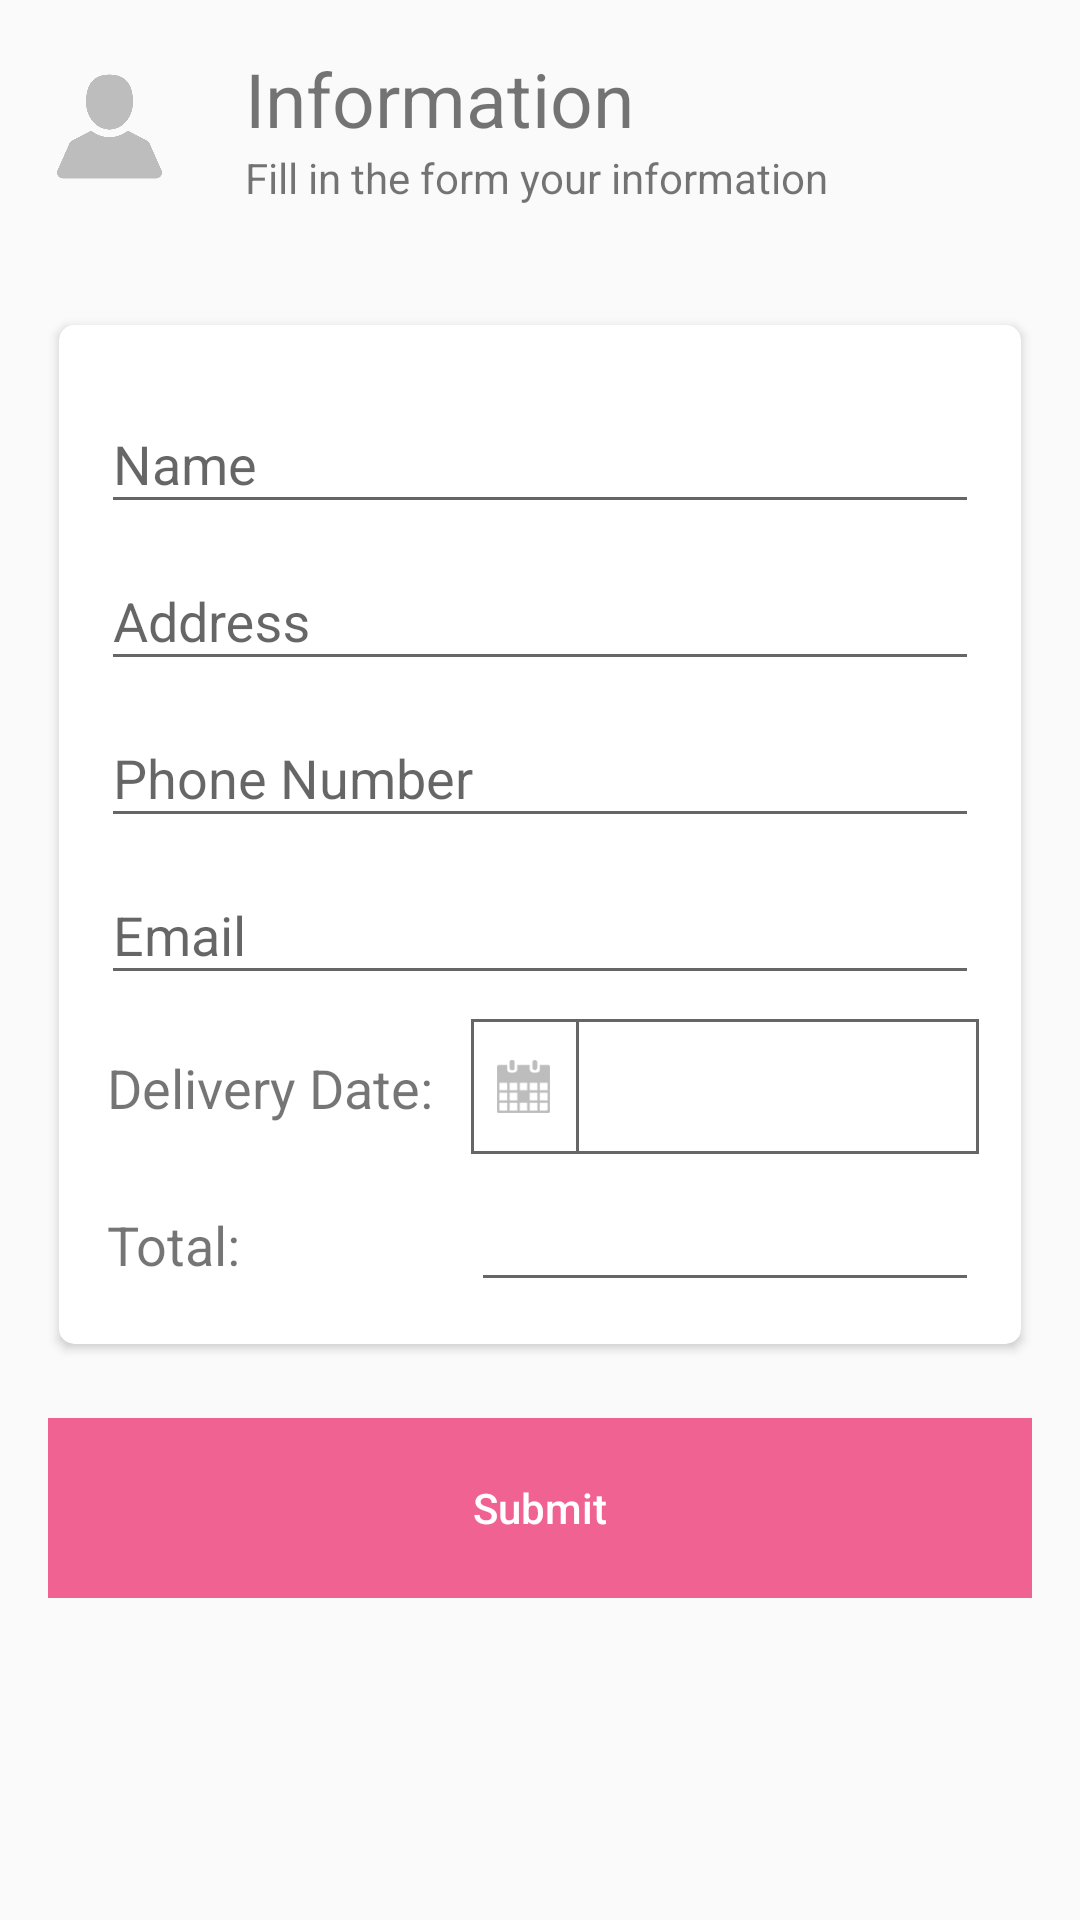

Where icons sit on this 1080px x 1920px app screen, as (x1, y1, x2, y2):
customer: (57, 74, 162, 179)
event: (497, 1060, 550, 1113)
